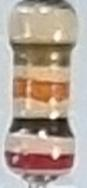Black: (8, 116, 74, 137)
Orange: (13, 77, 69, 103)
Red: (4, 149, 75, 171)
Side-Gold: (10, 41, 76, 67)
